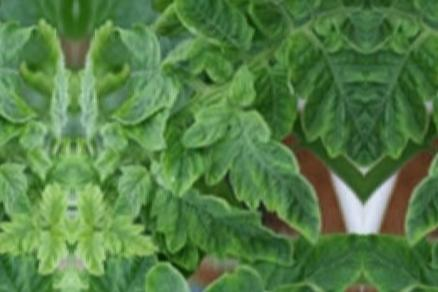Tomato leaf mosaic virus: (206, 89, 329, 243), (284, 33, 367, 184), (145, 187, 291, 266), (165, 0, 257, 55), (152, 115, 204, 206), (69, 239, 157, 292), (109, 65, 179, 131), (138, 261, 199, 292), (306, 0, 360, 10)
